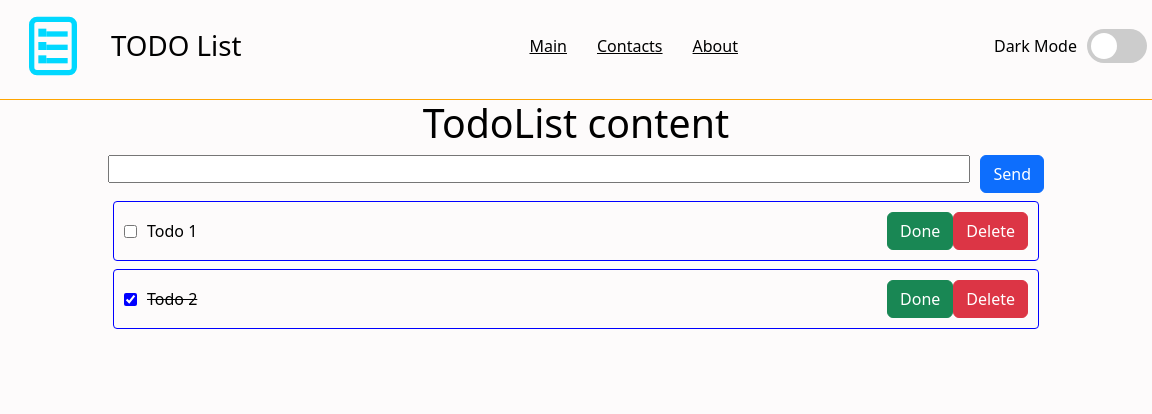
Scenario: Todo App Integration Tests › adds a task when pressing Enter
This screenshot has width=1152, height=414.
Type "Pressing Enter" into the field.
click(539, 169); type("Pressing Enter")  # box [108,155,970,183]
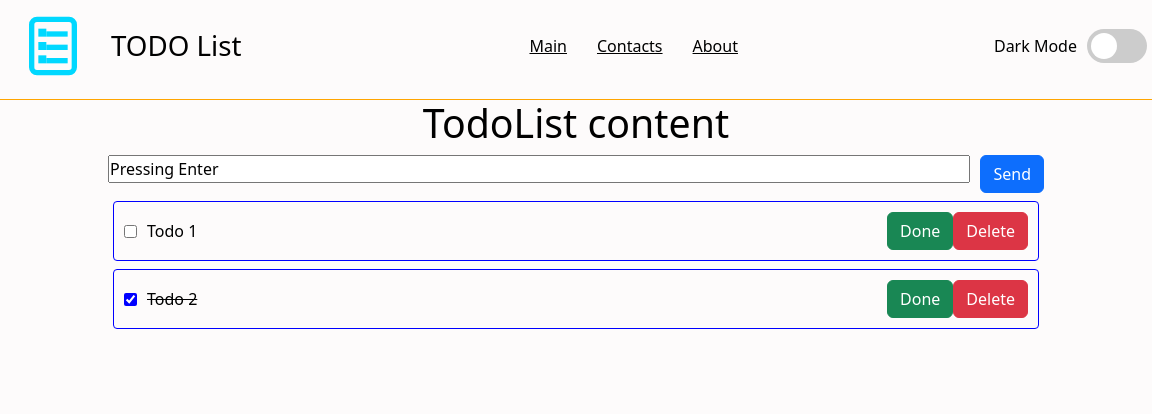
Press Enter in the field, box [108,155,970,183]
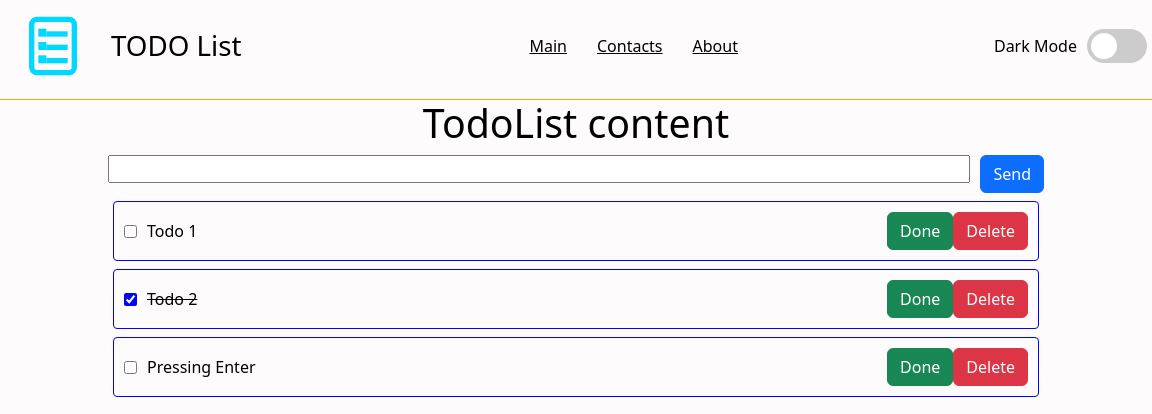
expect the text "Pressing Enter" is shown: met, box [147,355,256,379]
